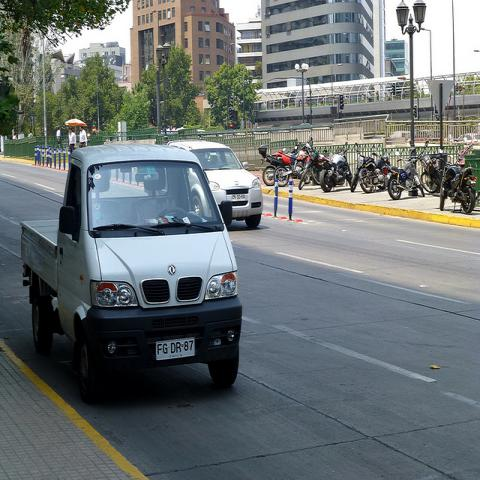car: (167, 142, 260, 230), (454, 132, 479, 143)
motorcycle: (407, 138, 444, 195), (439, 160, 477, 215), (270, 141, 310, 187), (298, 144, 332, 191), (388, 158, 426, 200), (319, 148, 352, 193), (358, 152, 392, 194), (257, 147, 282, 187), (350, 142, 365, 193)
truck: (22, 142, 244, 409), (167, 137, 262, 228)
